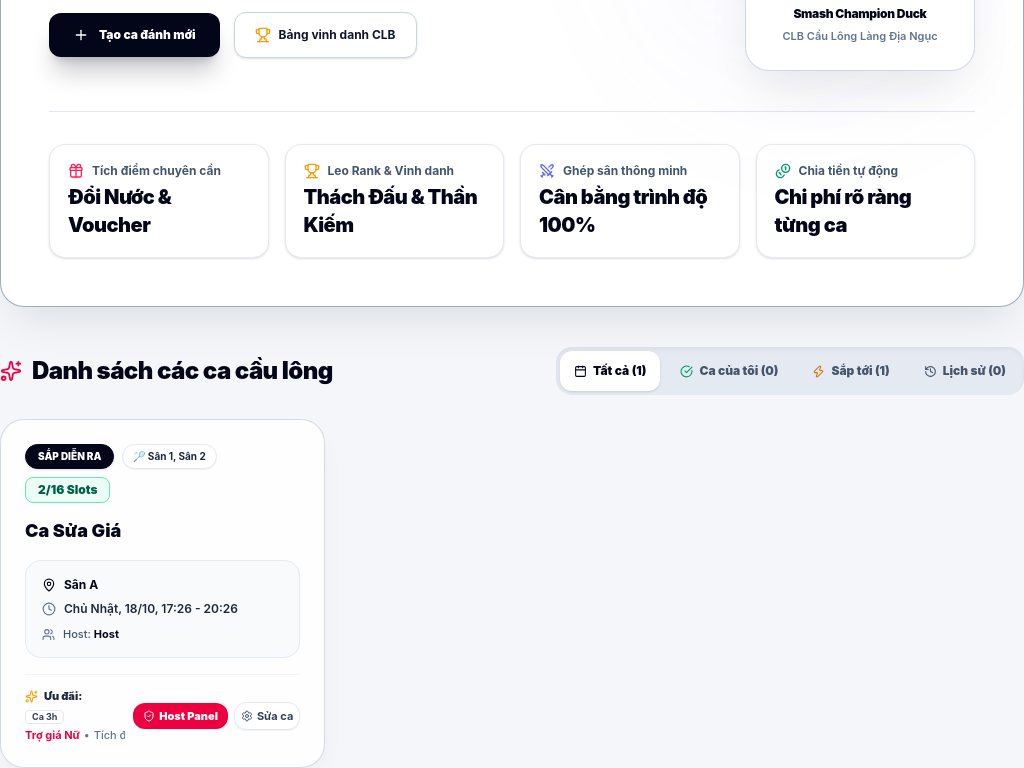
Test case: SessionListView — sửa nhanh ca: giá 2h & làm mới dữ liệu › chỉ xóa 1 ô đã có giá → báo lỗi, không gửi (server hiểu null = giữ nguyên)
(page scrolled)
Click the button "Sửa ca": (267, 716) [234,702,300,730]
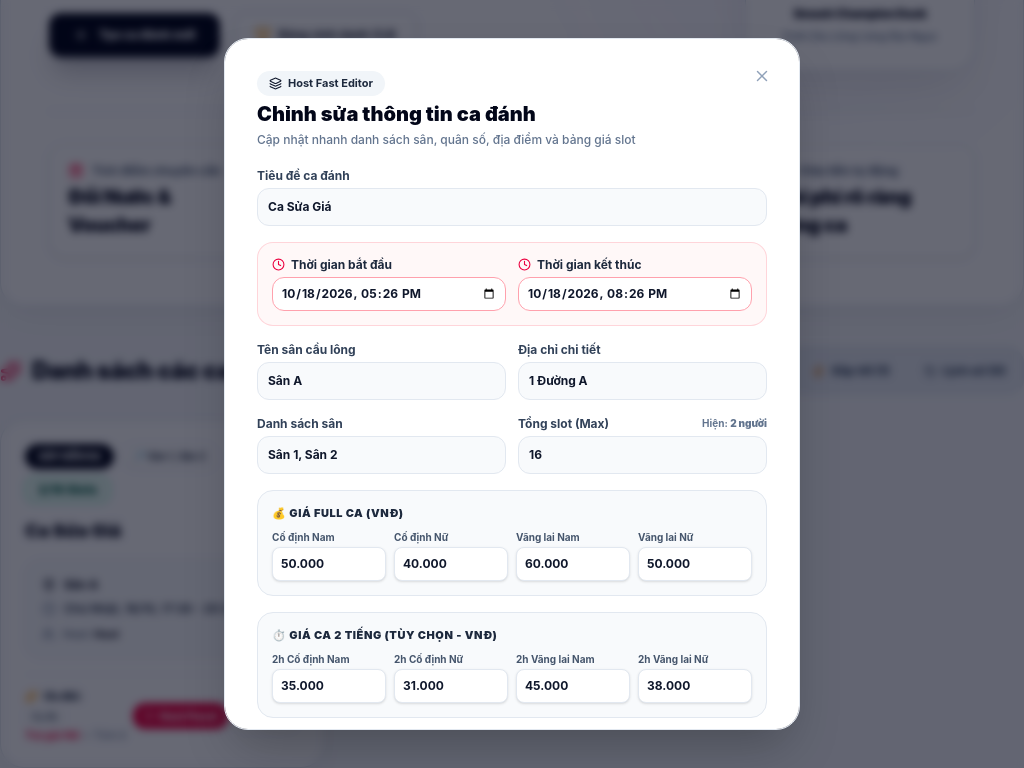
Now the heading "Chỉnh sửa thông tin ca đánh" is shown, box [257,102,536,126]
Clear the field showing "31.000" below "2h Cố định Nữ": (451, 686) [394,669,508,703]
(page scrolled)
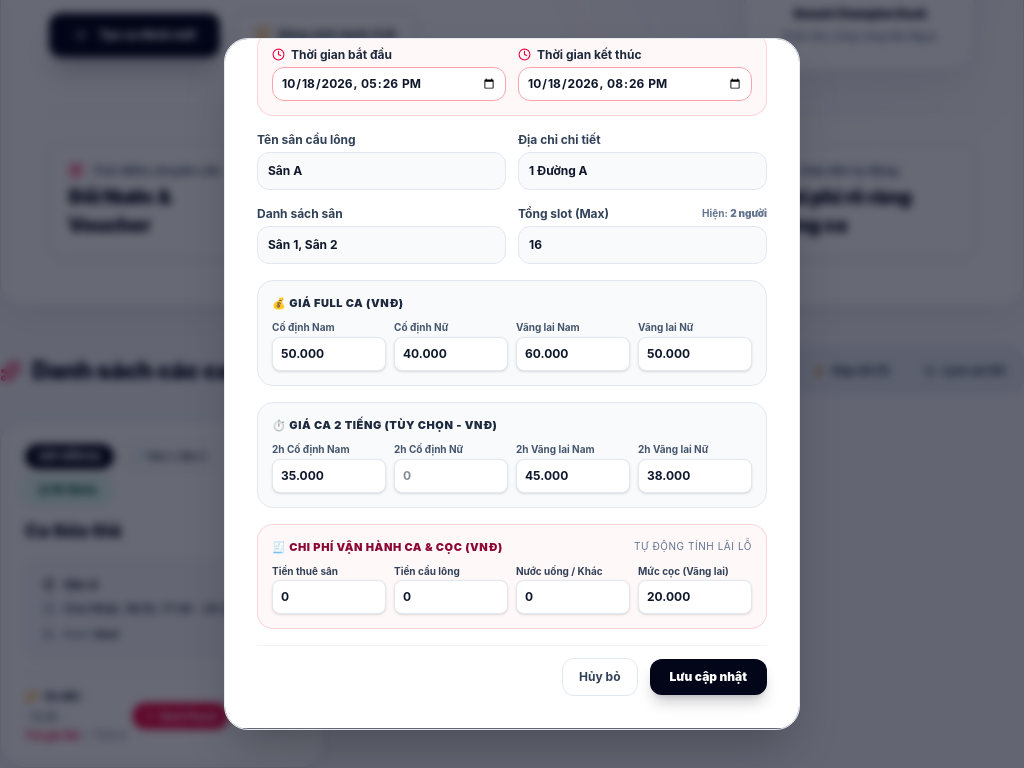
Click the button "Lưu cập nhật": (708, 677) [650,659,767,695]
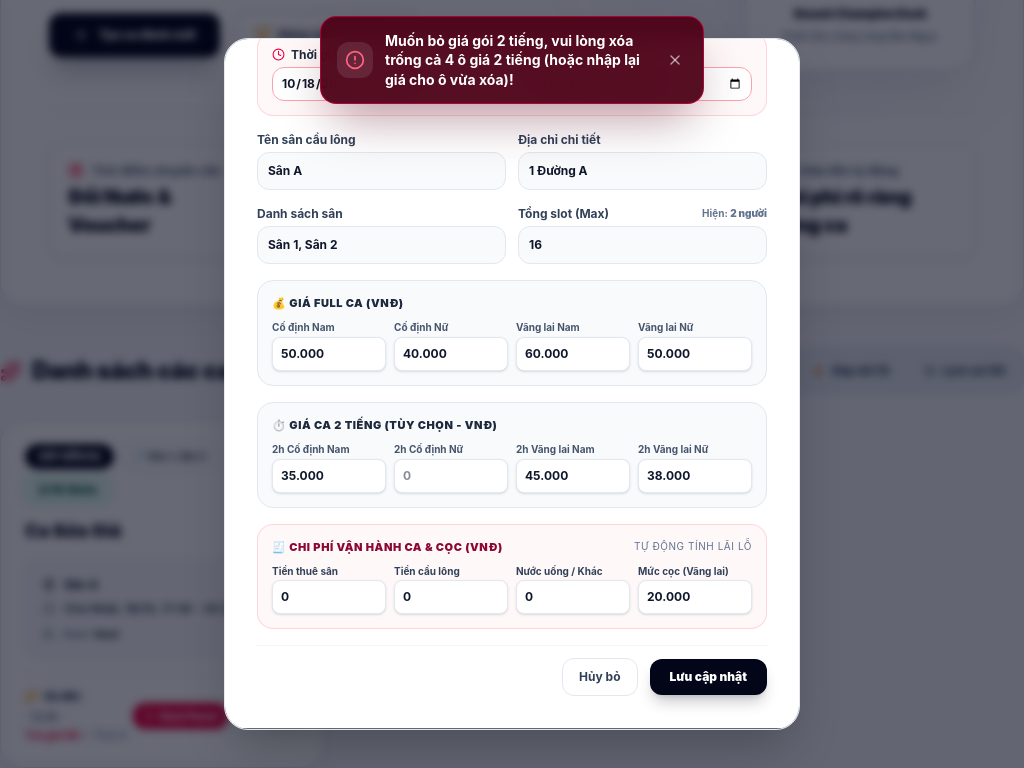
Now the text "xóa trống cả 4 ô giá 2 tiếng" is shown, box [385,32,640,88]
